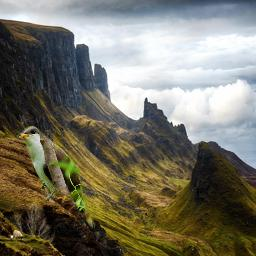Cuckoo: (14, 126, 100, 229)
